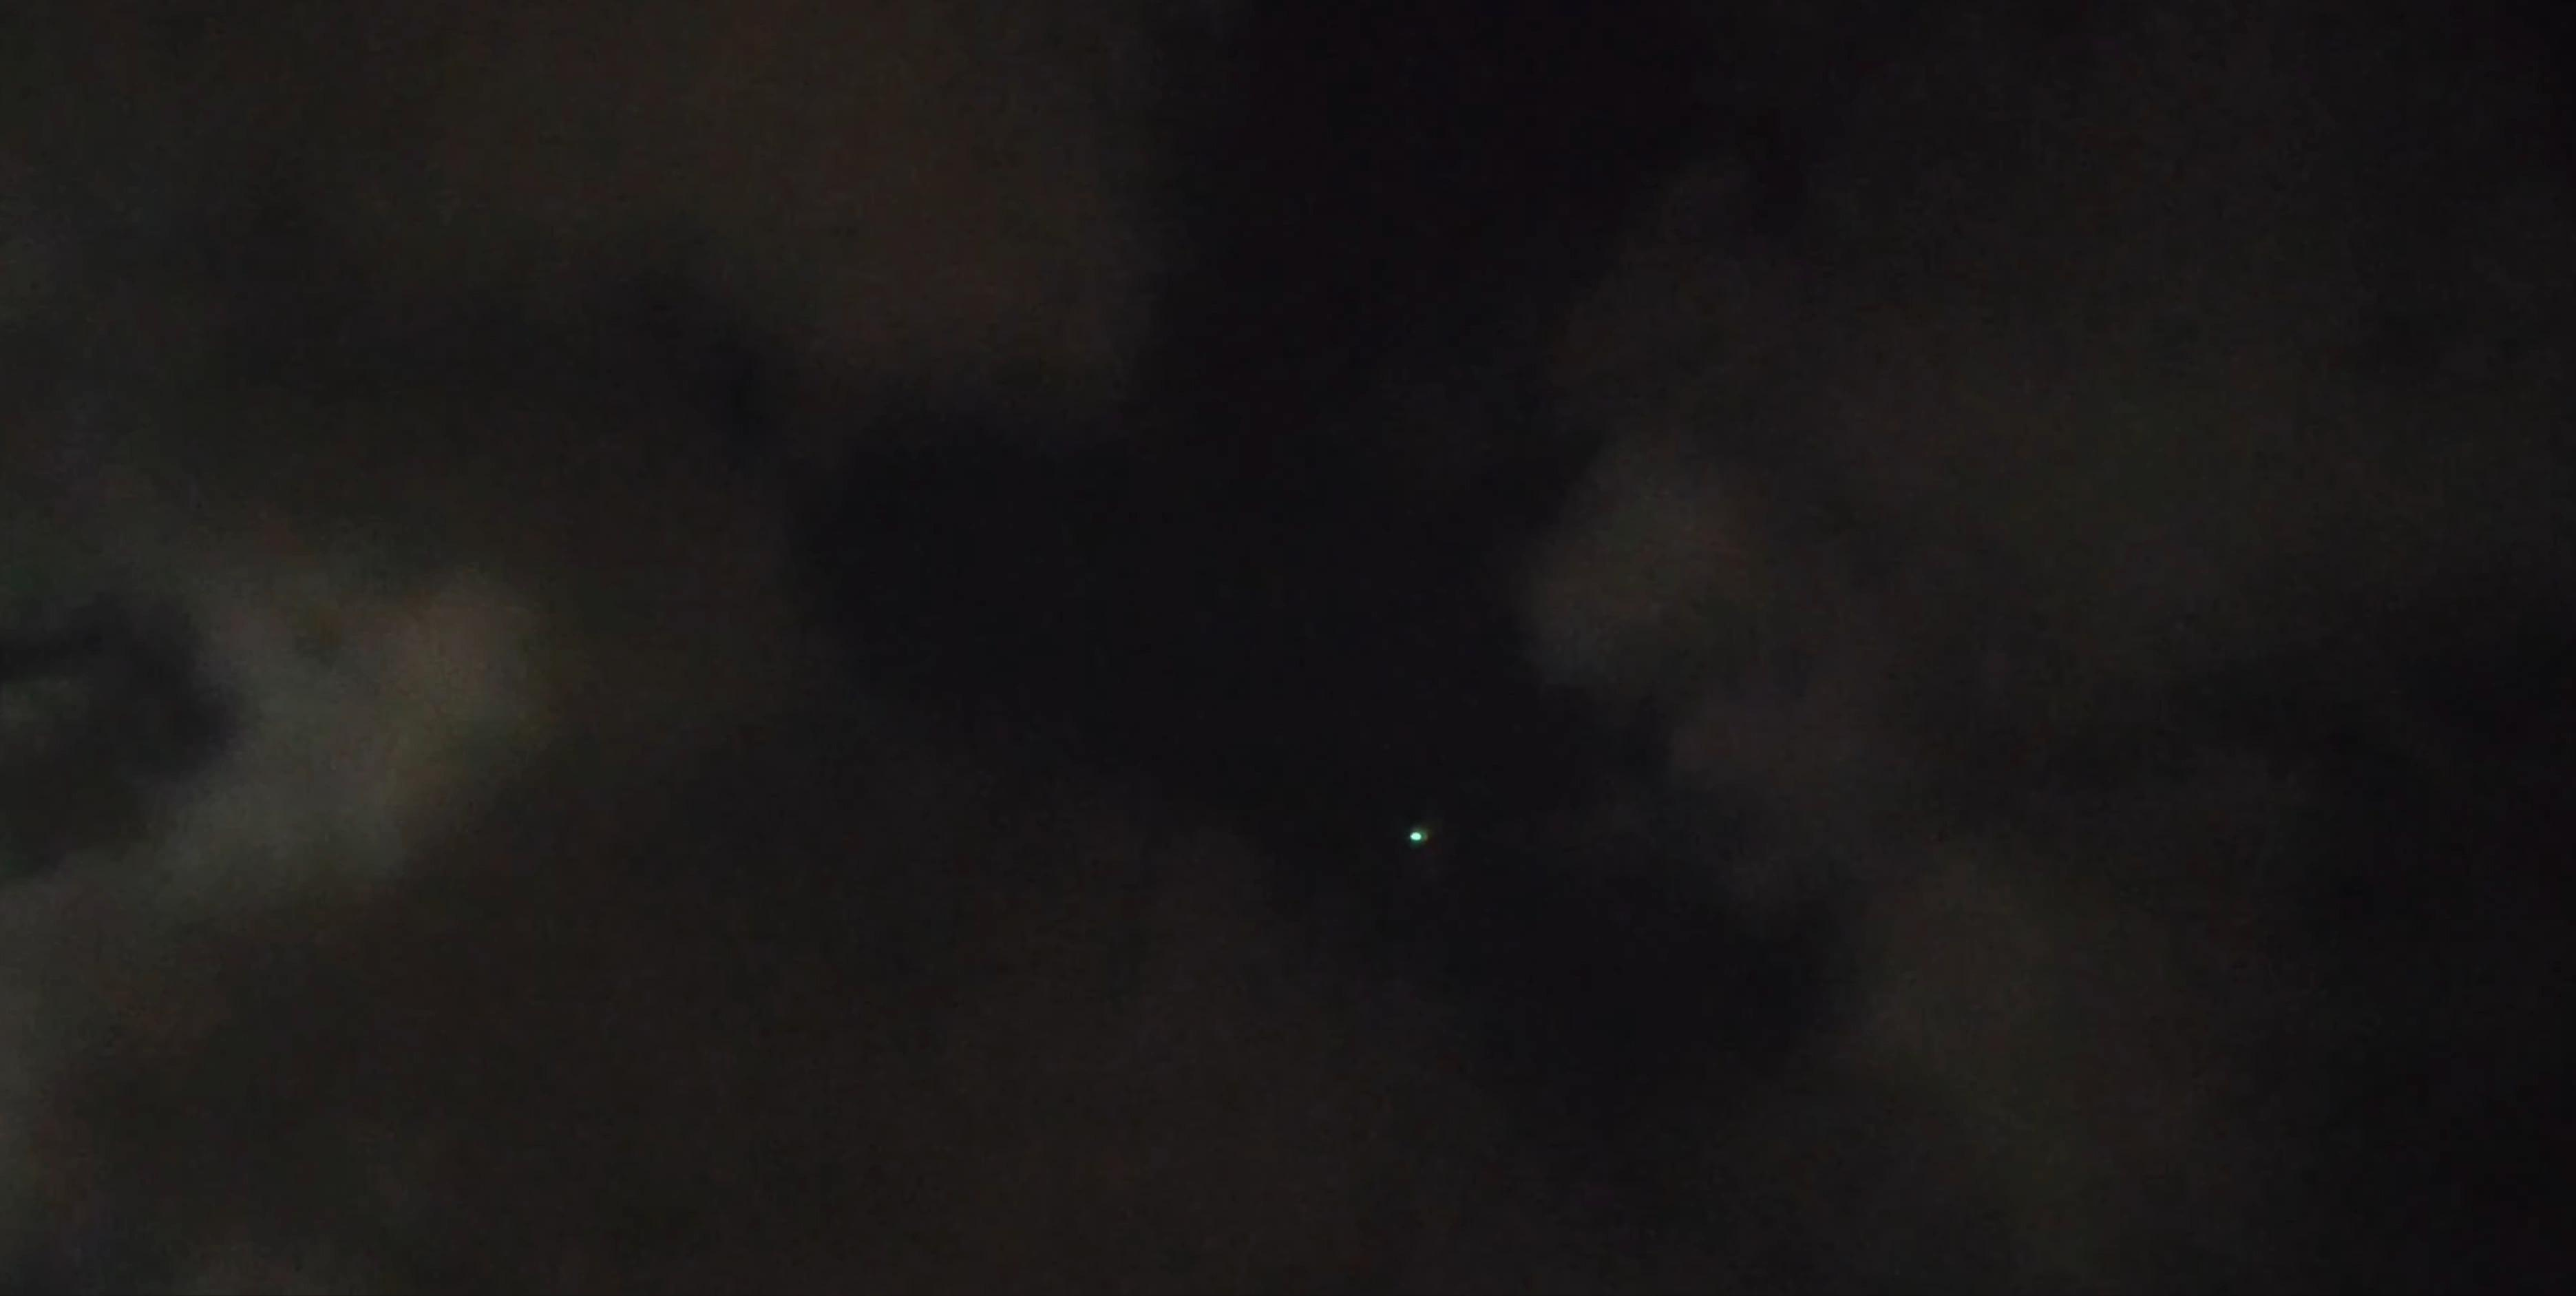Plane: (1400, 818, 1444, 868)
